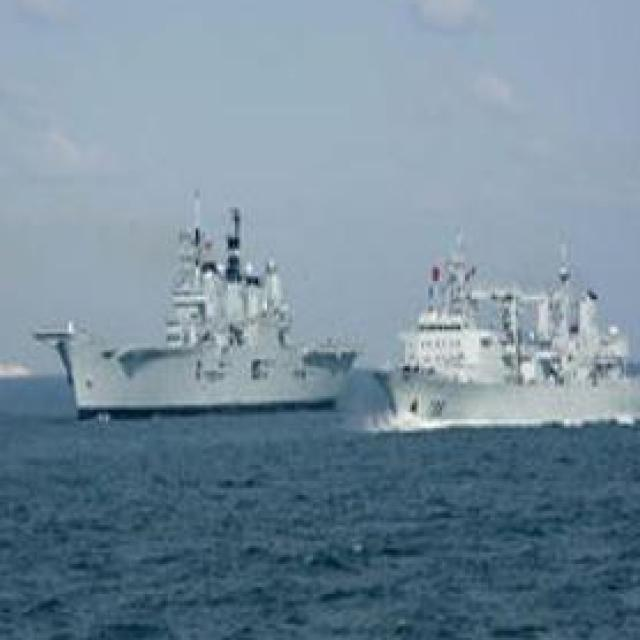navalvessels: (43, 194, 350, 417), (325, 244, 640, 446)
